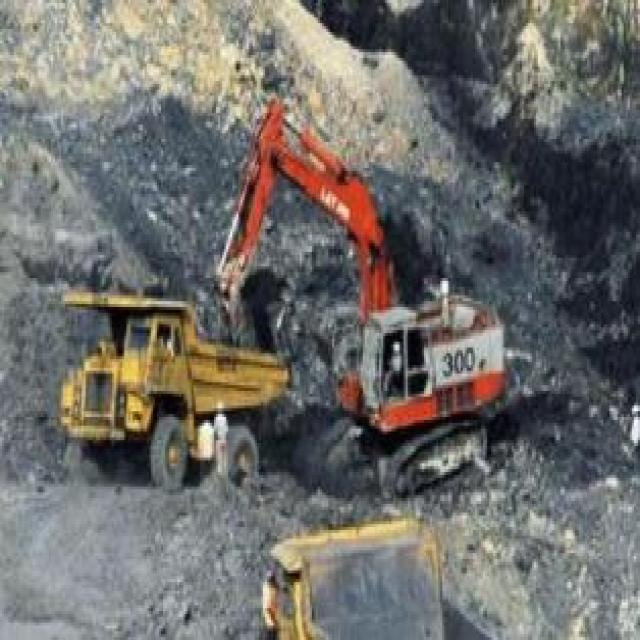dump_truck: (48, 273, 295, 491), (251, 523, 455, 640)
excavator: (214, 93, 530, 494)
